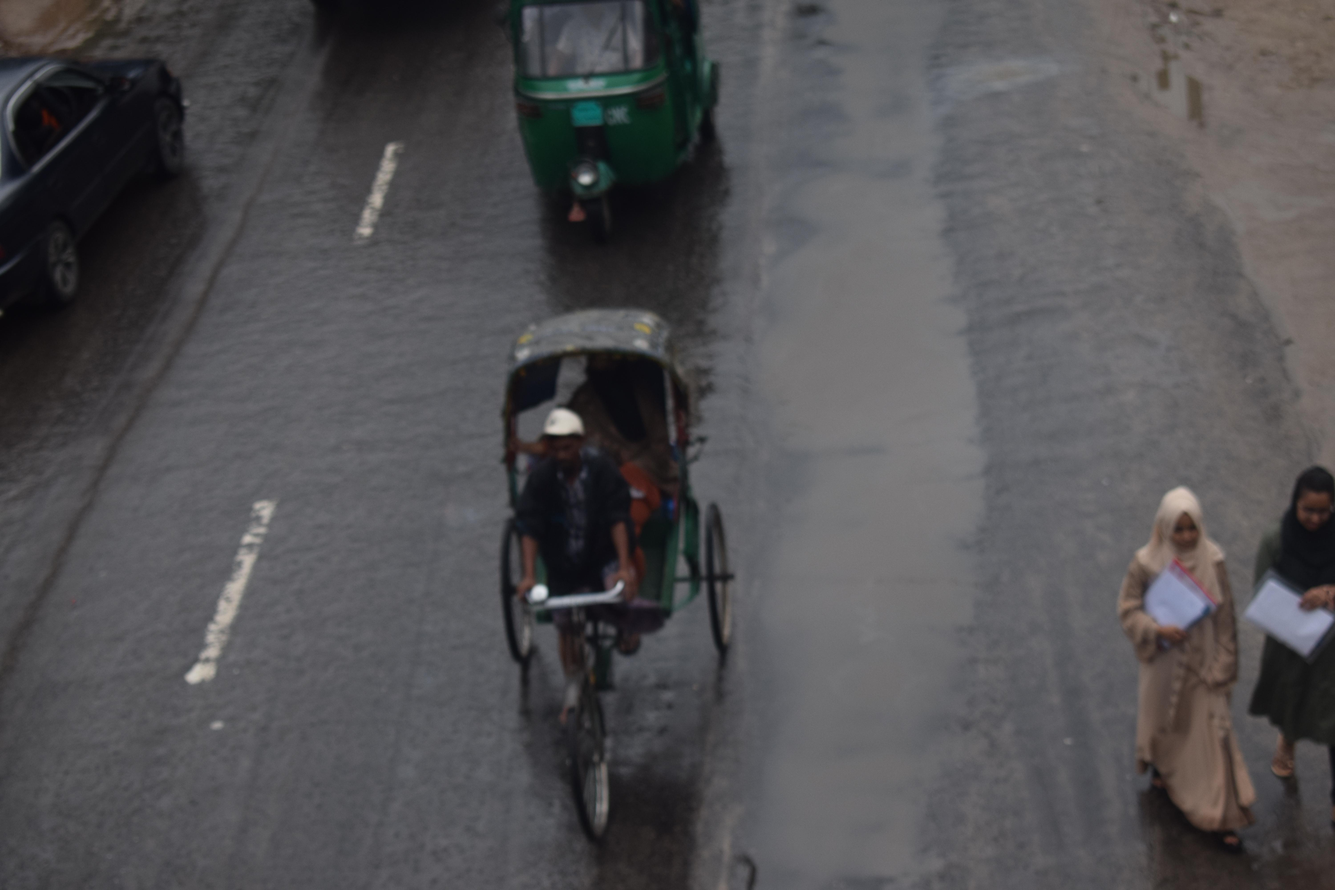Car: (420, 247, 793, 883), (0, 0, 237, 355)
